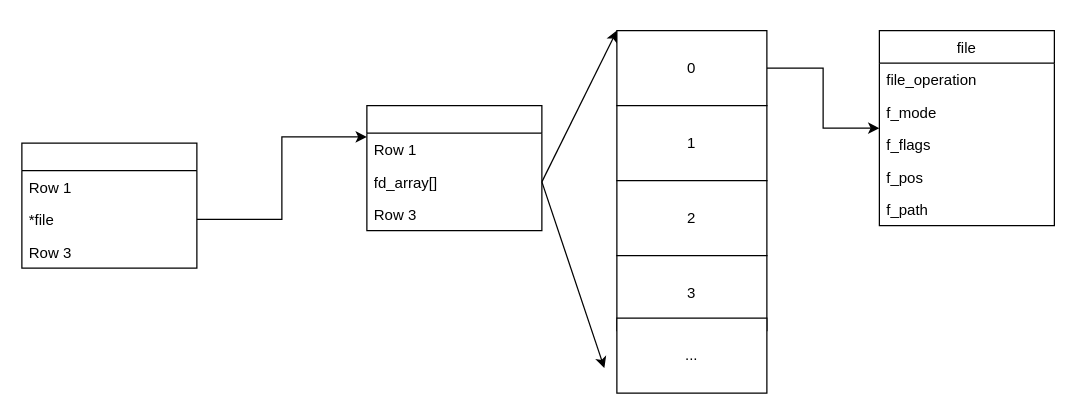
The diagram is 1076 pixels wide and 415 high, and some of its shapes have lost their labels. Here are the shapes that lost their labels. From the top down, the box of each, then its label:
(366, 104, 542, 231): file_struct
(21, 142, 197, 268): task_struct
